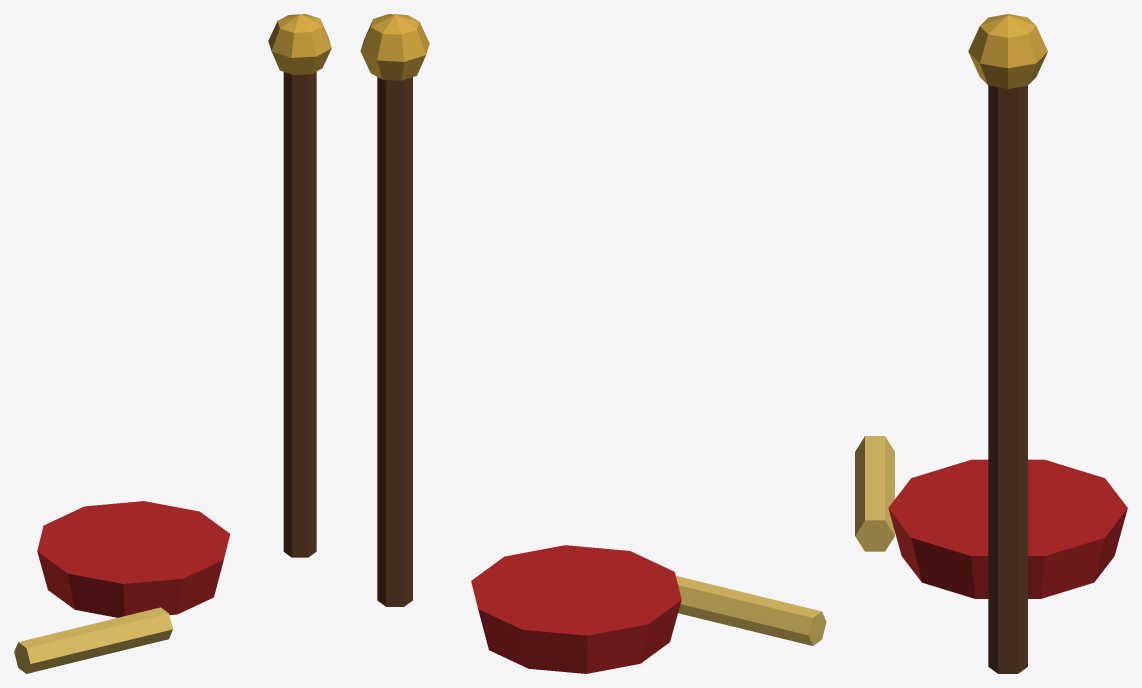
File: regalia.glb
The picture shows the model from 3 angles, left to right: view 1: azimuth 30°, elevation 25°; view 2: azimuth 150°, elevation 25°; view 3: azimuth 270°, elevation 25°; orthographic projection. The views are drawn at different scales.
Visible parts, largest first — view 1: regalia-b3201f, regalia-5e3b22, regalia-e0c060, regalia-d8a93b; view 2: regalia-b3201f, regalia-5e3b22, regalia-e0c060, regalia-d8a93b; view 3: regalia-5e3b22, regalia-b3201f, regalia-d8a93b, regalia-e0c060.
Part boxes in pixels (x1,y1,x2,y2): regalia-b3201f: [37, 501, 230, 617]; regalia-5e3b22: [283, 71, 316, 557]; regalia-e0c060: [14, 607, 172, 673]; regalia-d8a93b: [268, 14, 331, 74]; regalia-b3201f: [471, 545, 681, 673]; regalia-5e3b22: [377, 77, 412, 606]; regalia-e0c060: [676, 576, 826, 645]; regalia-d8a93b: [360, 14, 429, 80]; regalia-5e3b22: [988, 85, 1027, 673]; regalia-b3201f: [888, 459, 1127, 598]; regalia-d8a93b: [968, 14, 1047, 88]; regalia-e0c060: [855, 436, 894, 551].
Bounding box in the file's own units: 0.76 × 1.08 × 0.41.
